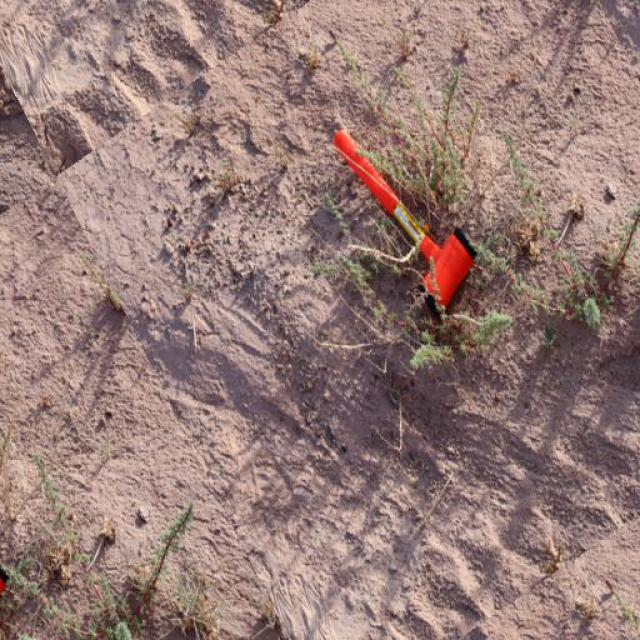mallet: (330, 126, 476, 314)
